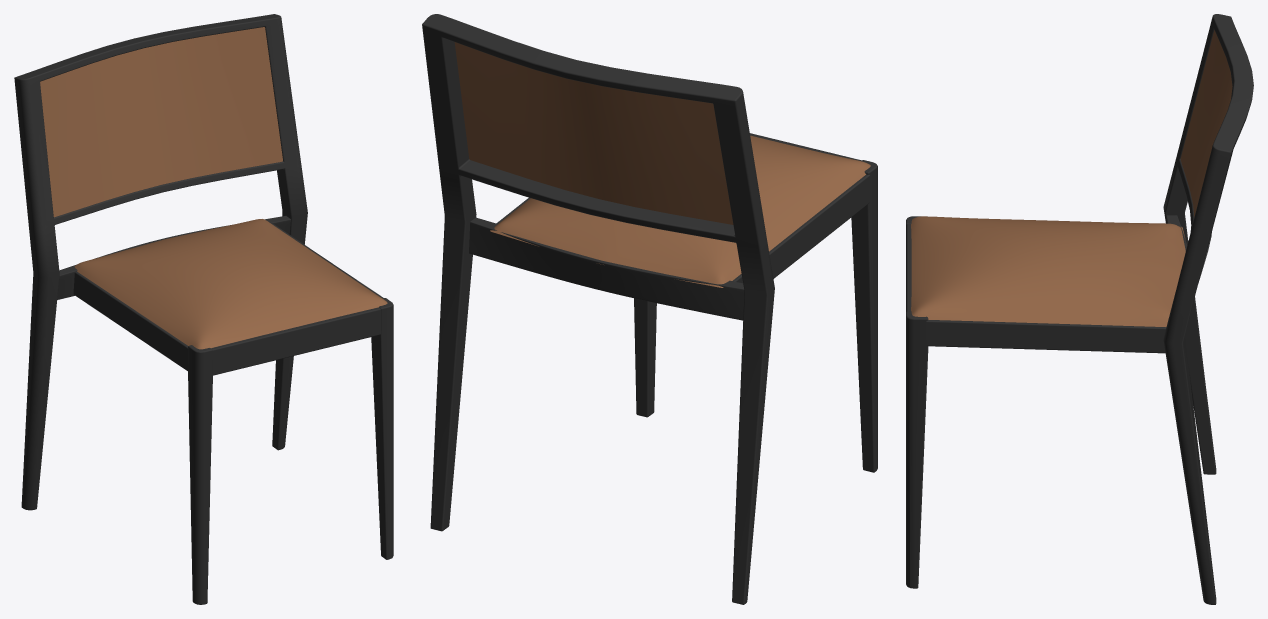
Rendered from Chair.glb.
The picture shows the model from 3 angles, left to right: view 1: azimuth 30°, elevation 25°; view 2: azimuth 150°, elevation 25°; view 3: azimuth 270°, elevation 25°; orthographic projection. The views are drawn at different scales.
Parts seen in each view (by area): view 1: Cube.006, Plane, Cube.002, Cube.001, Cube.003, Cube.005, Cube.004; view 2: Cube.002, Cube.006, Plane, Cube.004, Cube.001, Cube.005; view 3: Plane, Cube.002, Cube.005, Cube.001, Cube.006, Cube.003.
Part boxes in pixels (<box>): Cube.006: <box>40,27,282,217</box>; Plane: <box>74,219,387,349</box>; Cube.002: <box>14,14,307,510</box>; Cube.001: <box>188,298,393,604</box>; Cube.003: <box>211,307,380,375</box>; Cube.005: <box>73,224,383,370</box>; Cube.004: <box>57,216,290,299</box>; Cube.002: <box>422,14,774,604</box>; Cube.006: <box>454,42,733,224</box>; Plane: <box>490,135,870,287</box>; Cube.004: <box>469,217,744,320</box>; Cube.001: <box>634,160,877,472</box>; Cube.005: <box>496,174,870,283</box>; Plane: <box>911,216,1185,326</box>; Cube.002: <box>1163,14,1253,604</box>; Cube.005: <box>926,320,1166,353</box>; Cube.001: <box>906,216,928,588</box>; Cube.006: <box>1180,30,1232,216</box>; Cube.003: <box>906,224,911,311</box>.
Size of the model in its own units: 0.4934 by 0.7516 by 0.5182.
